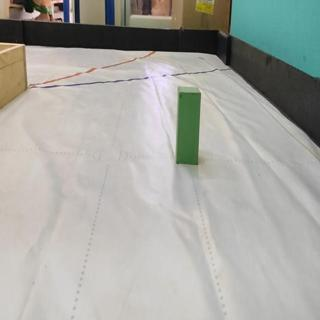greenbox: (175, 84, 200, 164)
